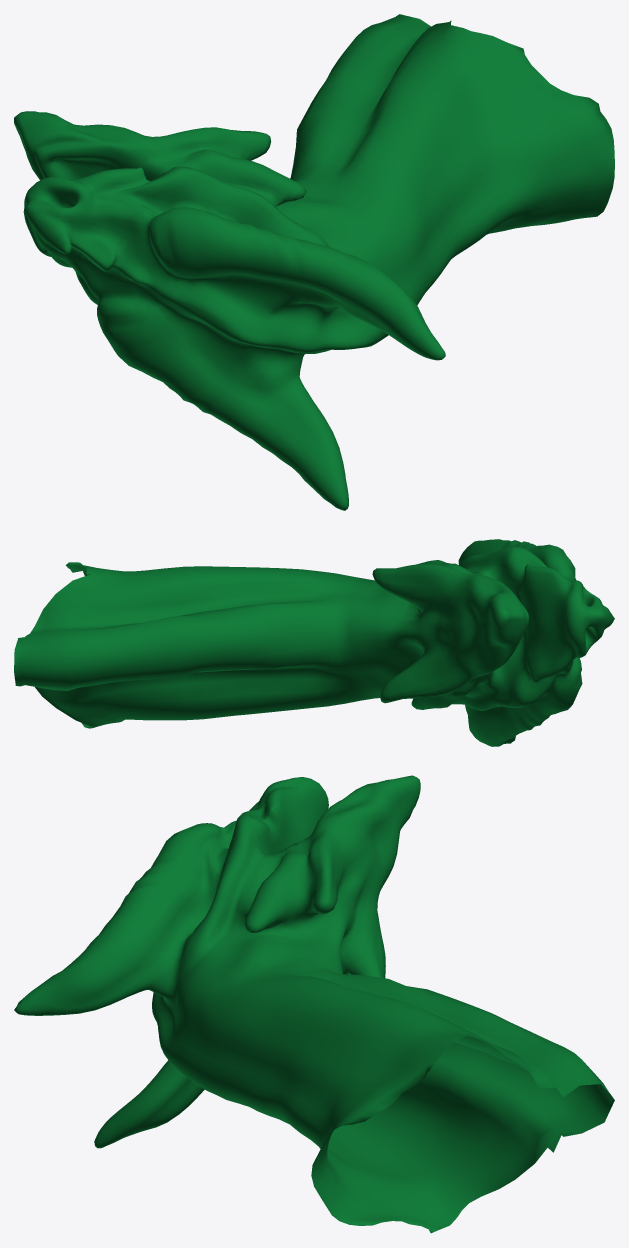
Rendered from Cabeza3.obj.
The picture shows the model from 3 angles, top to bottom: view 1: azimuth 30°, elevation 25°; view 2: azimuth 150°, elevation 25°; view 3: azimuth 270°, elevation 25°; orthographic projection. The views are drawn at different scales.
Parts seen in each view (by area): view 1: Cabeza3; view 2: Cabeza3; view 3: Cabeza3.
Part boxes in pixels (x1,y1,x2,y2): Cabeza3: (14,14,614,510); Cabeza3: (14,539,614,746); Cabeza3: (14,775,614,1233).
Size of the model in its own units: 2.98 by 1.5 by 2.71.
Materials: 1 (1 with a texture image).
